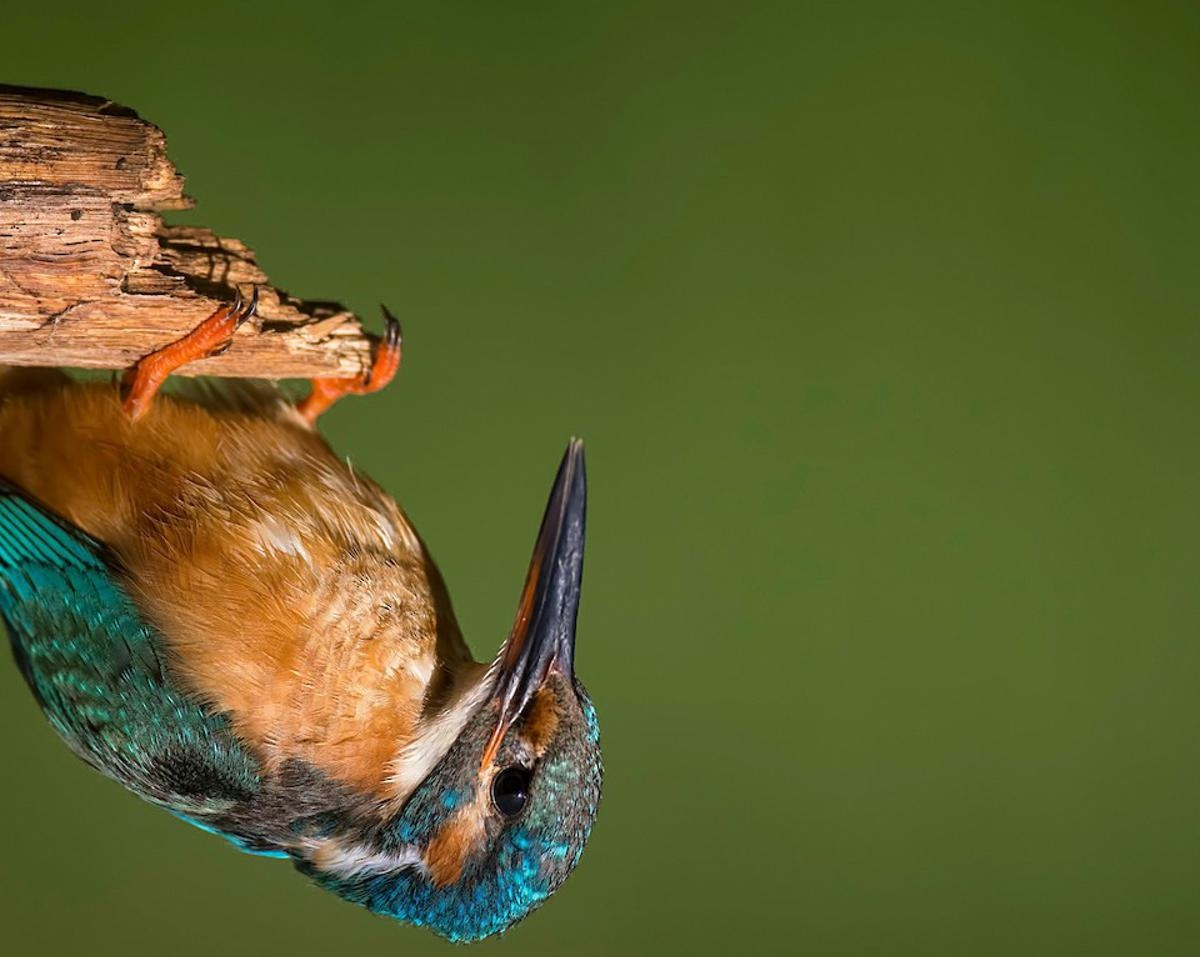kingfisher: (1, 293, 609, 946)
